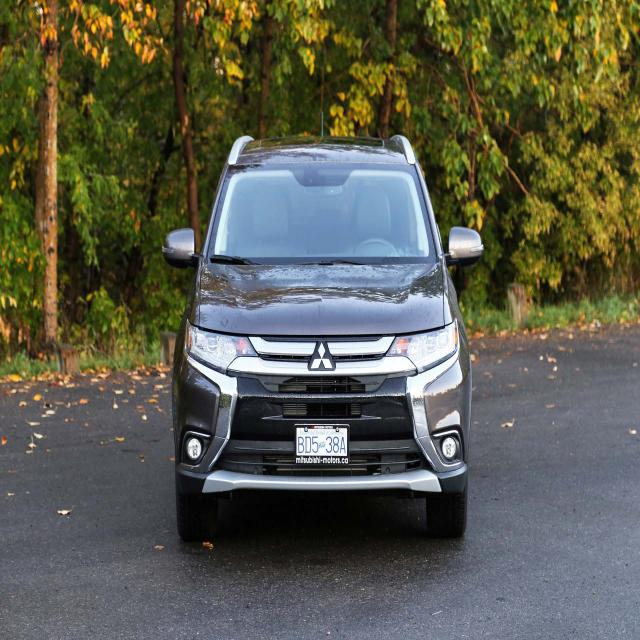light_vehicle: (161, 131, 484, 543)
